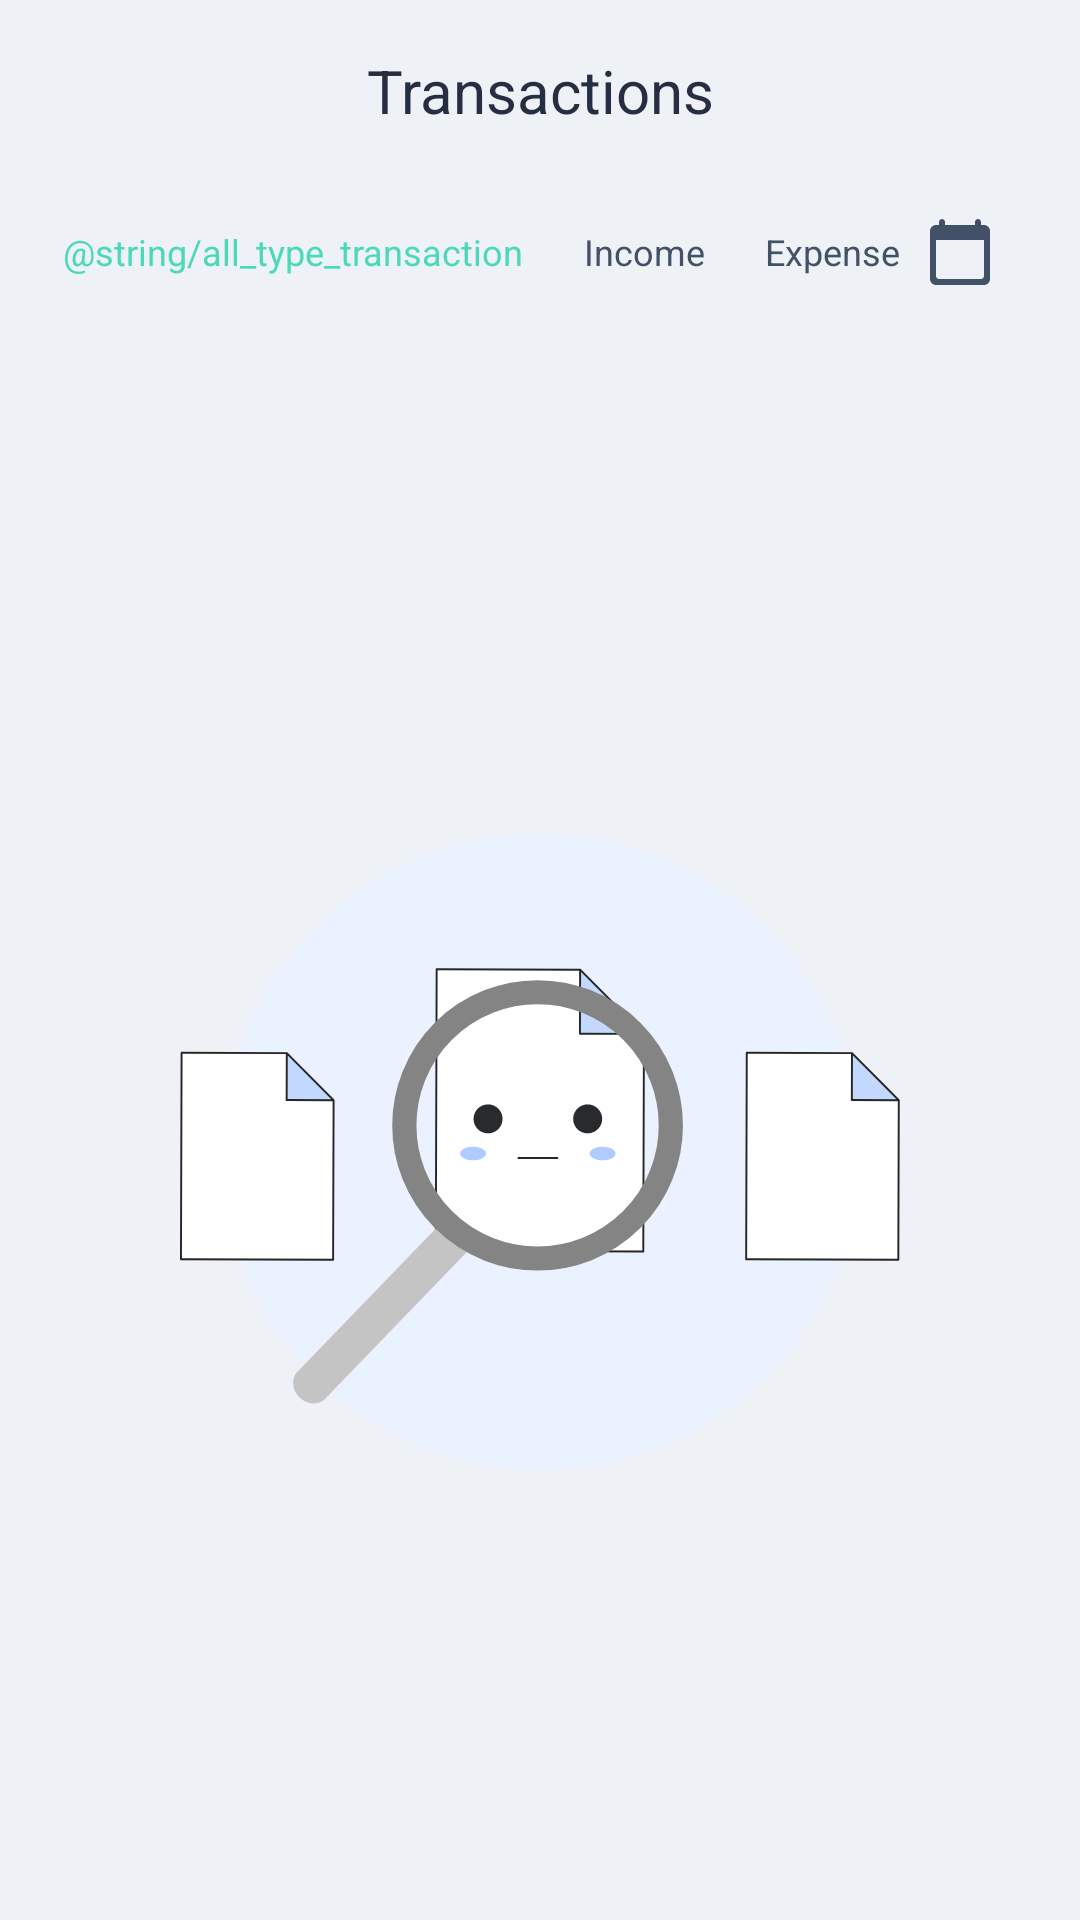

Icon bounding boxes for this 1080w x 1920h phone screenshot, format bbox=[x1, y1, x2, y2]:
calendar filter: bbox=[930, 219, 990, 285]
